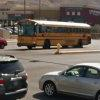Bus: (14, 16, 93, 53)
